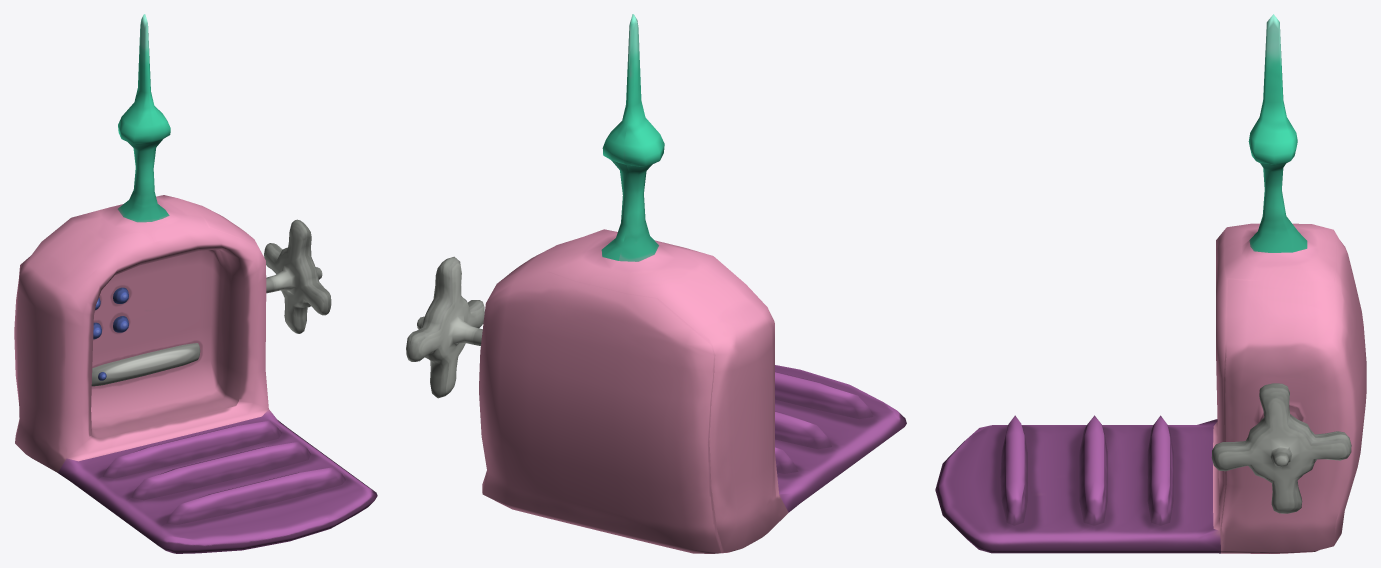
Rendered from Generator_version_1 (1).fbx.
3 views of the same model, side by side, from view 1: azimuth 30°, elevation 25°; view 2: azimuth 150°, elevation 25°; view 3: azimuth 270°, elevation 25° (orthographic). The views are drawn at different scales.
Parts seen in each view (by area): view 1: pCube15; view 2: pCube15; view 3: pCube15.
Part boxes in pixels (x1,y1,x2,y2): pCube15: (14, 14, 377, 553); pCube15: (406, 14, 906, 553); pCube15: (935, 14, 1366, 553).
Bounding box in the file's own units: 12.41 × 17.09 × 13.78.
